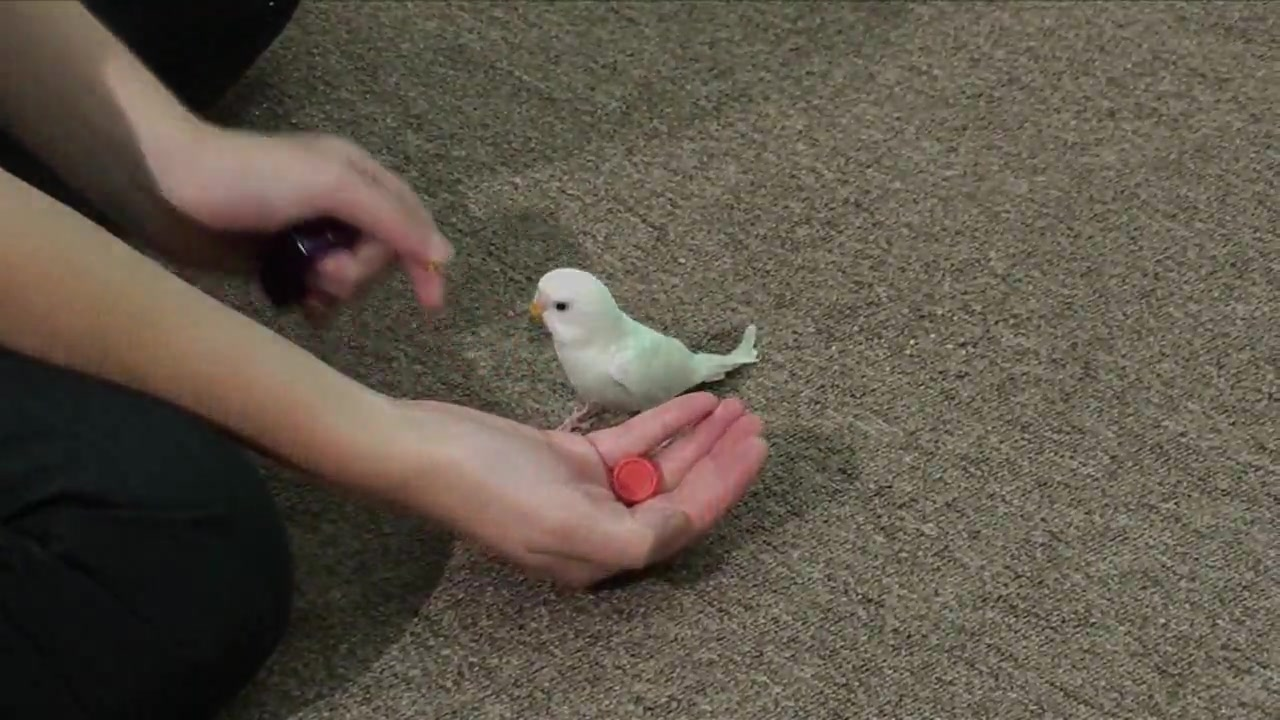bird: (529, 270, 763, 437)
